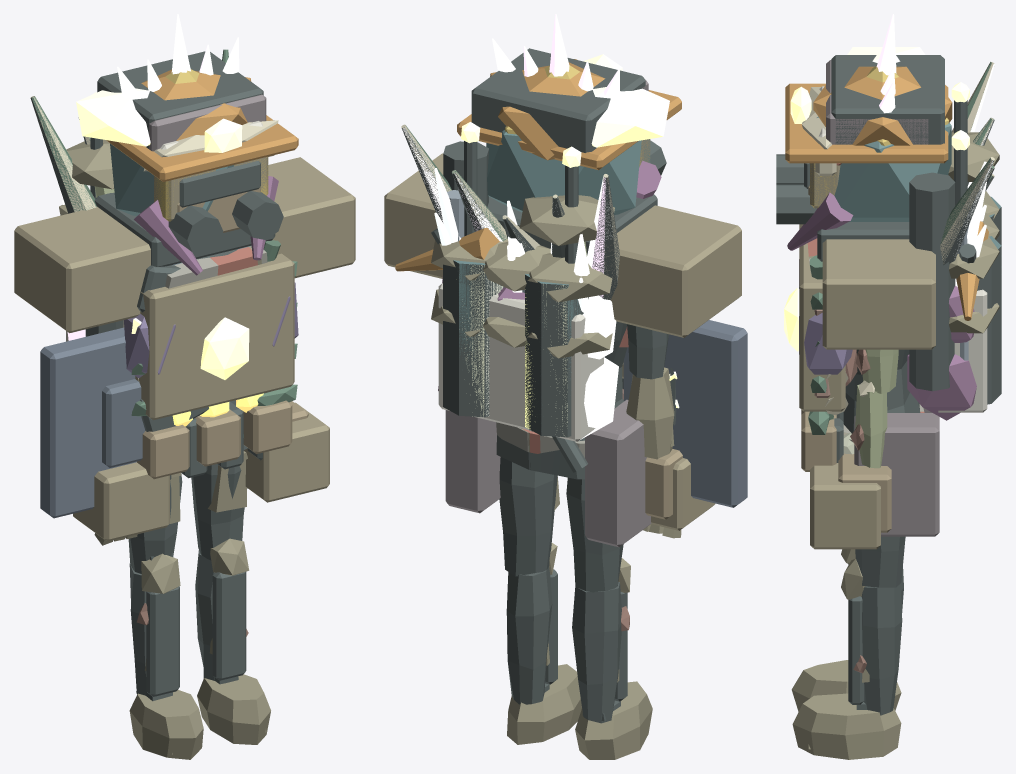
Rendered from zombie-roster.glb.
The picture shows the model from 3 angles, left to right: view 1: azimuth 30°, elevation 25°; view 2: azimuth 150°, elevation 25°; view 3: azimuth 270°, elevation 25°; orthographic projection. The views are drawn at different scales.
Parts seen in each view (by area): view 1: Breach Unit spineGroup Breach Unit worn equipment, Breach Unit L_shoulder Breach Unit worn equipment, Riot Breaker L_elbow Riot Breaker worn equipment, Breach Unit R_shoulder Breach Unit worn equipment, Wasteland Scavenger spineGroup Wasteland Scavenger worn equi, Deep Miner headGroup Deep Miner worn equipment, Breach Unit L_wrist Breach Unit worn equipment, Breach Unit R_wrist Breach Unit worn equipment, Wasteland Scavenger headGroup Graphite straps, Spore Bloom L_ankle Spore Bloom worn equipment, Spore Bloom R_ankle Spore Bloom worn equipment, Quarantine headGroup Graphite straps (+32 smaller); view 2: Cinder Husk spineGroup Graphite straps, Breach Unit L_shoulder Breach Unit worn equipment, Riot Breaker L_elbow Riot Breaker worn equipment, Prison Warden spineGroup Prison Warden worn equipment, Spore Bloom spineGroup Spore Bloom worn equipment, Wasteland Scavenger headGroup Graphite straps, Sunken Diver headGroup Sunken Diver worn equipment, Lost Medic spineGroup Lost Medic worn equipment, Spore Bloom L_knee Graphite straps, Spore Bloom R_hip Graphite straps, Spore Bloom R_knee Graphite straps, Deep Miner headGroup Deep Miner worn equipment (+28 smaller); view 3: Breach Unit R_shoulder Breach Unit worn equipment, Deep Miner headGroup Deep Miner worn equipment, Prison Warden spineGroup Prison Warden worn equipment, Wasteland Scavenger headGroup Graphite straps, Reactor Leak spineGroup Graphite straps, Spore Bloom R_ankle Spore Bloom worn equipment, Breach Unit R_wrist Breach Unit worn equipment, Sunken Diver headGroup Sunken Diver worn equipment, Spore Bloom R_knee Graphite straps, Cinder Husk spineGroup Graphite straps, Spore Bloom spineGroup Spore Bloom worn equipment, Breach Unit spineGroup Breach Unit worn equipment (+30 smaller).
Part boxes in pixels (x1=…): Breach Unit spineGroup Breach Unit worn equipment: x1=135, y1=253, x2=294, y2=420; Breach Unit L_shoulder Breach Unit worn equipment: x1=14, y1=206, x2=150, y2=333; Riot Breaker L_elbow Riot Breaker worn equipment: x1=40, y1=327, x2=136, y2=518; Breach Unit R_shoulder Breach Unit worn equipment: x1=268, y1=157, x2=355, y2=278; Wasteland Scavenger spineGroup Wasteland Scavenger worn equi: x1=137, y1=400, x2=292, y2=479; Deep Miner headGroup Deep Miner worn equipment: x1=106, y1=69, x2=298, y2=181; Breach Unit L_wrist Breach Unit worn equipment: x1=73, y1=462, x2=169, y2=541; Breach Unit R_wrist Breach Unit worn equipment: x1=244, y1=402, x2=329, y2=502; Wasteland Scavenger headGroup Graphite straps: x1=97, y1=51, x2=263, y2=148; Spore Bloom L_ankle Spore Bloom worn equipment: x1=129, y1=690, x2=203, y2=759; Spore Bloom R_ankle Spore Bloom worn equipment: x1=197, y1=674, x2=270, y2=744; Quarantine headGroup Graphite straps: x1=168, y1=191, x2=283, y2=254; Cinder Husk spineGroup Graphite straps: x1=402, y1=127, x2=619, y2=437; Breach Unit L_shoulder Breach Unit worn equipment: x1=611, y1=205, x2=741, y2=337; Riot Breaker L_elbow Riot Breaker worn equipment: x1=623, y1=320, x2=747, y2=507; Prison Warden spineGroup Prison Warden worn equipment: x1=445, y1=399, x2=651, y2=547; Spore Bloom spineGroup Spore Bloom worn equipment: x1=431, y1=195, x2=614, y2=452; Wasteland Scavenger headGroup Graphite straps: x1=471, y1=48, x2=645, y2=152; Sunken Diver headGroup Sunken Diver worn equipment: x1=486, y1=130, x2=650, y2=214; Lost Medic spineGroup Lost Medic worn equipment: x1=438, y1=283, x2=603, y2=441; Spore Bloom L_knee Graphite straps: x1=572, y1=582, x2=621, y2=723; Spore Bloom R_hip Graphite straps: x1=499, y1=457, x2=557, y2=576; Spore Bloom R_knee Graphite straps: x1=506, y1=567, x2=552, y2=704; Deep Miner headGroup Deep Miner worn equipment: x1=457, y1=59, x2=681, y2=170; Breach Unit R_shoulder Breach Unit worn equipment: x1=822, y1=239, x2=935, y2=349; Deep Miner headGroup Deep Miner worn equipment: x1=785, y1=66, x2=952, y2=163; Prison Warden spineGroup Prison Warden worn equipment: x1=854, y1=408, x2=939, y2=536; Wasteland Scavenger headGroup Graphite straps: x1=831, y1=55, x2=944, y2=144; Reactor Leak spineGroup Graphite straps: x1=909, y1=172, x2=955, y2=391; Spore Bloom R_ankle Spore Bloom worn equipment: x1=792, y1=693, x2=901, y2=759; Breach Unit R_wrist Breach Unit worn equipment: x1=810, y1=463, x2=880, y2=549; Sunken Diver headGroup Sunken Diver worn equipment: x1=817, y1=116, x2=951, y2=221; Spore Bloom R_knee Graphite straps: x1=861, y1=583, x2=902, y2=715; Cinder Husk spineGroup Graphite straps: x1=940, y1=120, x2=1001, y2=404; Spore Bloom spineGroup Spore Bloom worn equipment: x1=809, y1=132, x2=999, y2=333; Breach Unit spineGroup Breach Unit worn equipment: x1=799, y1=224, x2=845, y2=411.
Size of the model in its own units: 0.995 by 2.23 by 0.635.
